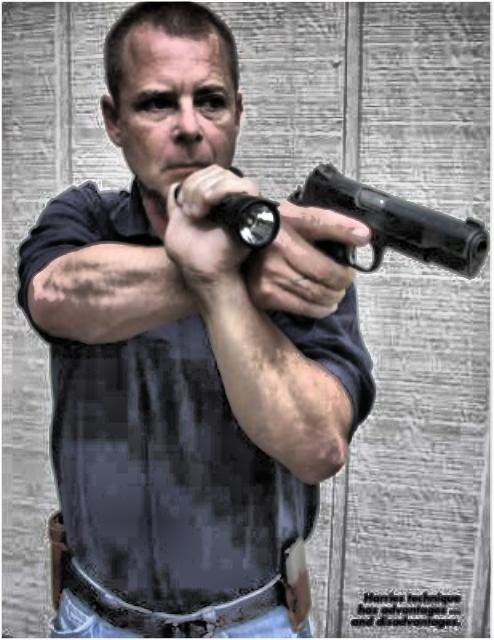pistol: (265, 162, 485, 336)
